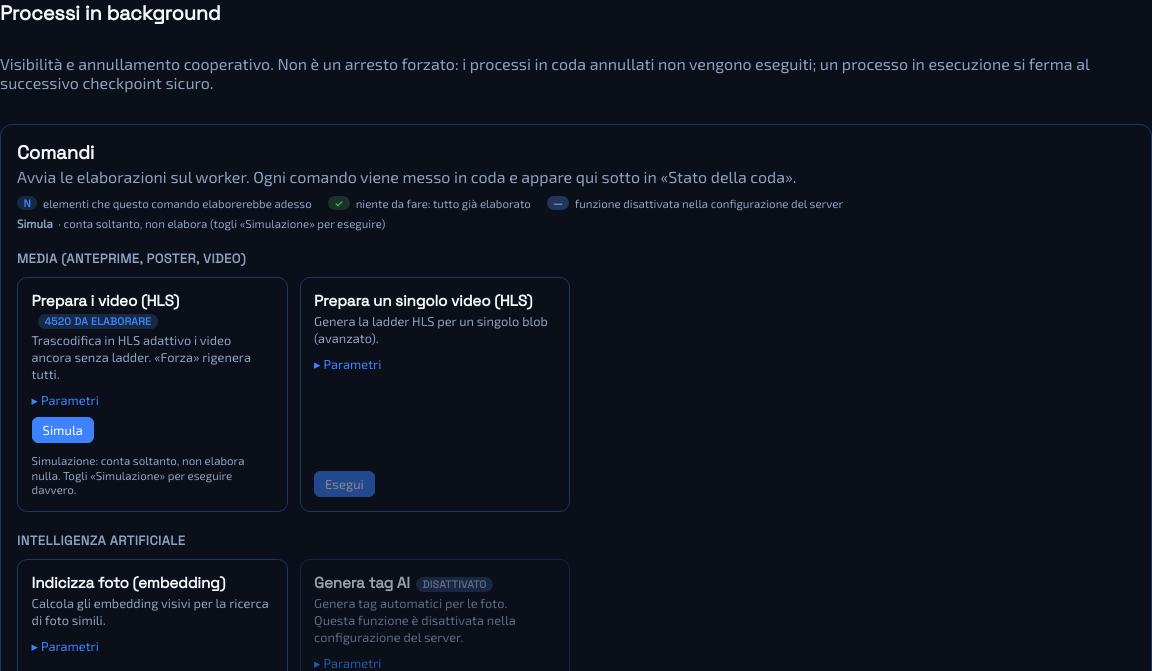
AdminJobsPage — commands console › keeps Run disabled until a required parameter is provided
This screenshot has width=1152, height=671.
Expected: the heading "Prepara un singolo video (HLS)" is shown, [314,291,555,310]
Expected: the button "Esegui" is disabled, [314,471,375,497]
Click the button "▸ Parametri" below "Prepara un singolo video (HLS)".
click(348, 364)  # box [314,356,381,372]
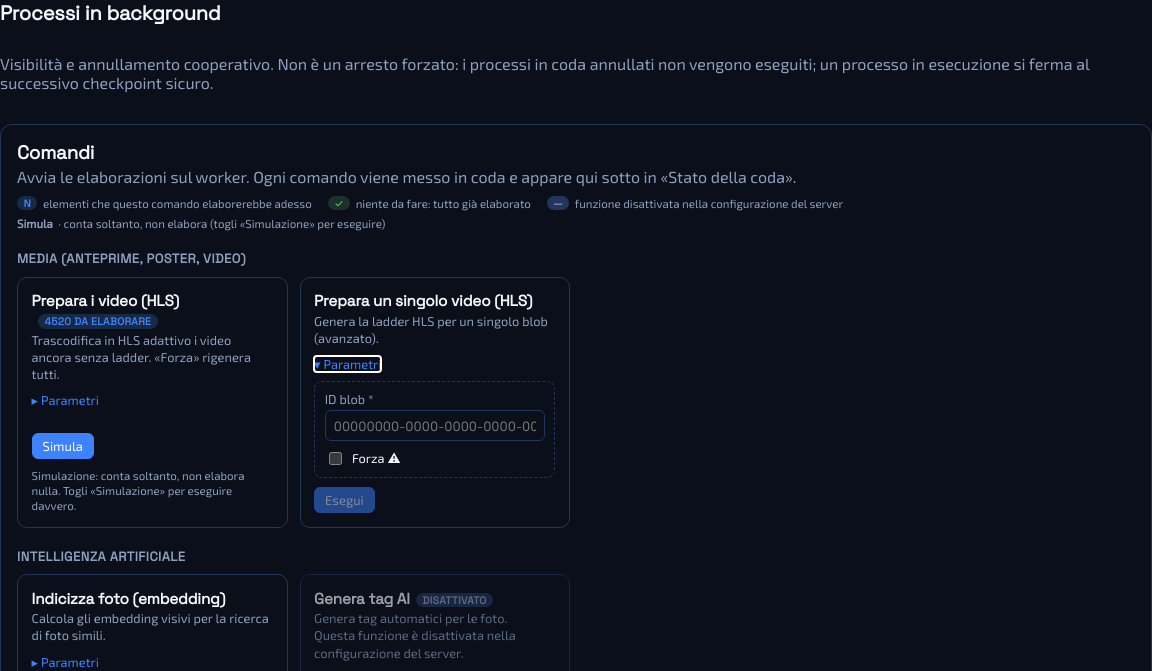
Type "11111111-1111-1111-1111-111111111111" into the field labelled "ID blob *".
click(435, 426); type("11111111-1111-1111-1111-111111111111")  # box [325,410,545,441]
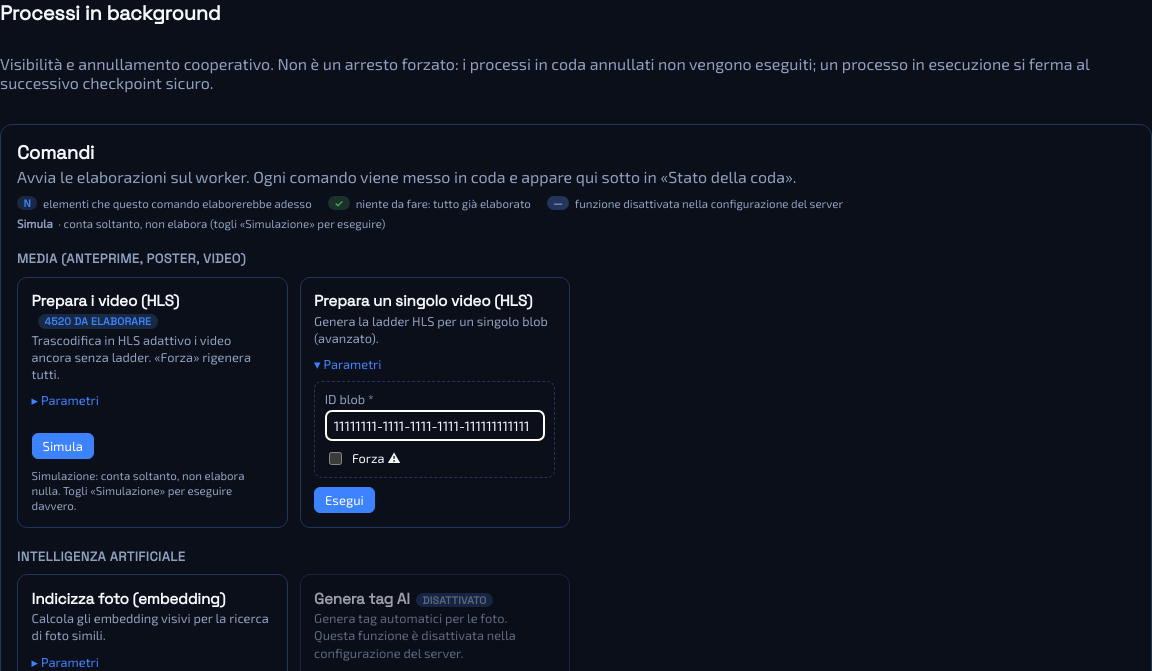
Result: the button "Esegui" is enabled at [314,487,375,513]
